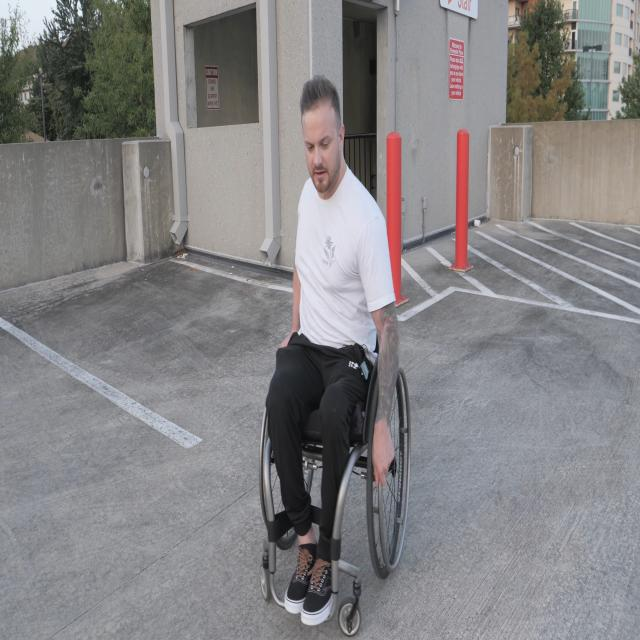wheelchairs: (256, 252, 411, 633)
